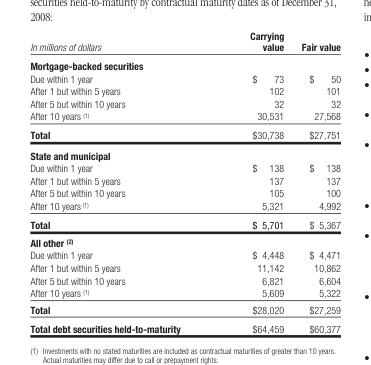table: (29, 28, 340, 333)
table column: (29, 28, 214, 333), (214, 28, 292, 333), (292, 28, 340, 333)
table column header: (29, 28, 340, 55)
table projected row header: (29, 144, 340, 161), (29, 55, 340, 71), (29, 233, 340, 248)
table row: (29, 28, 340, 55), (29, 125, 340, 144), (29, 214, 340, 233), (29, 300, 340, 318), (29, 144, 340, 161), (29, 55, 340, 71), (29, 109, 340, 125), (29, 199, 340, 214), (29, 233, 340, 248), (29, 318, 340, 333), (29, 286, 340, 300), (29, 71, 340, 84), (29, 96, 340, 109), (29, 173, 340, 186), (29, 186, 340, 199), (29, 248, 340, 261), (29, 273, 340, 286), (29, 84, 340, 96), (29, 161, 340, 173), (29, 261, 340, 273)
